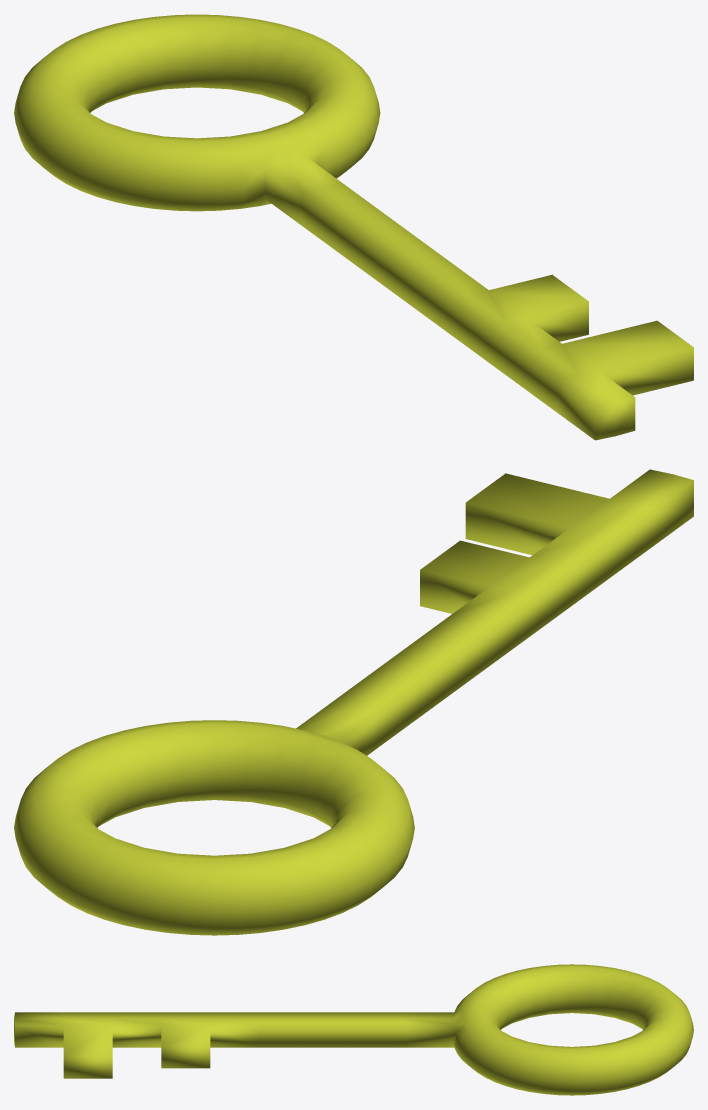
Rendered from key.fbx.
The picture shows the model from 3 angles, top to bottom: view 1: azimuth 30°, elevation 25°; view 2: azimuth 150°, elevation 25°; view 3: azimuth 270°, elevation 25°; orthographic projection. The views are drawn at different scales.
Visible parts, largest first — view 1: Cylinder; view 2: Cylinder; view 3: Cylinder.
Part boxes in pixels (bbox=[...]): Cylinder: bbox=[14, 14, 693, 440]; Cylinder: bbox=[14, 469, 693, 935]; Cylinder: bbox=[14, 964, 693, 1095].
Bounding box in the file's own units: 2.5 × 0.5 × 6.97.
